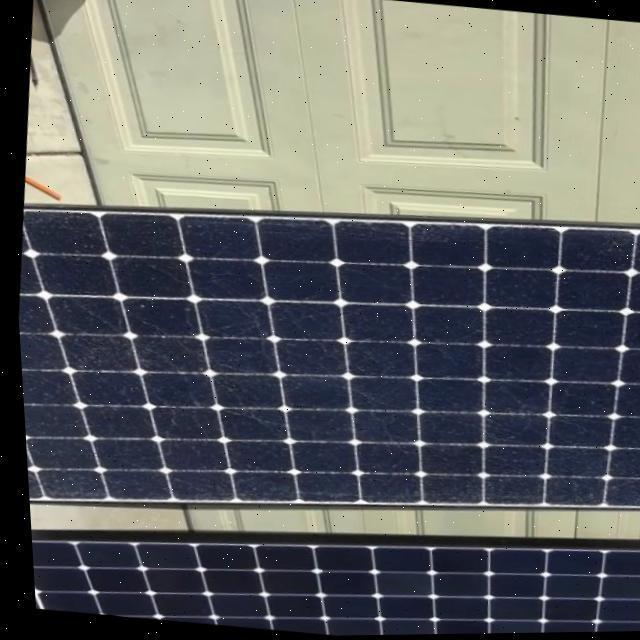Normal Solar Panel: (23, 479, 640, 640)
